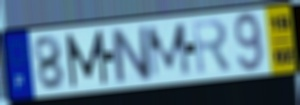8: (33, 34, 67, 92)
9: (233, 10, 267, 76)
M: (144, 20, 194, 82), (63, 29, 110, 90)
N: (108, 24, 155, 86)
R: (190, 17, 234, 78)
